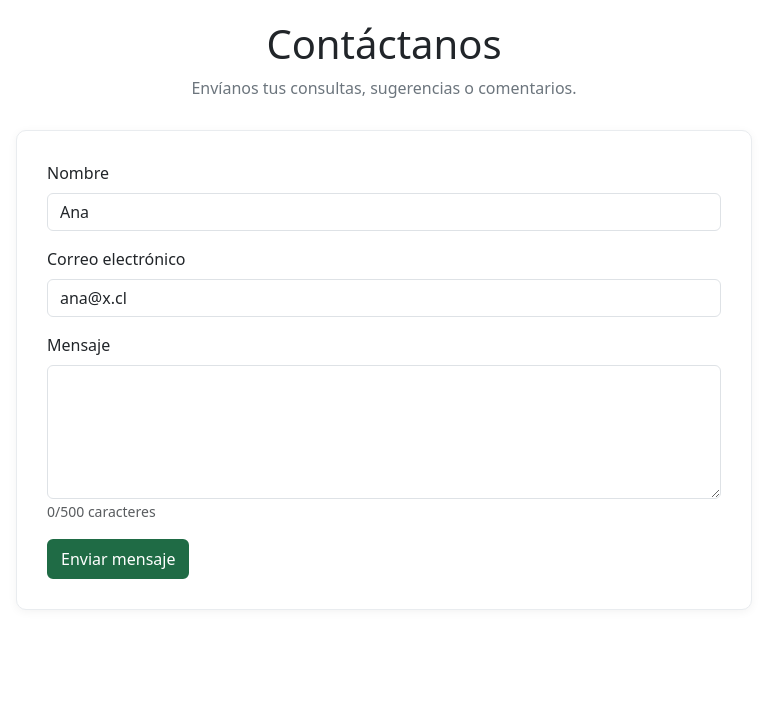
Test: ContactPage › muestra el formulario, precarga datos del usuario y envía el mensaje
Expected: the heading "Contáctanos" is shown, [266,16,502,71]
Expected: the field labelled "Nombre" holds "Ana", [47,193,721,231]
Type "Hola!" into the text box labelled "Mensaje". click: (384,432)
box: [47,365,721,499]
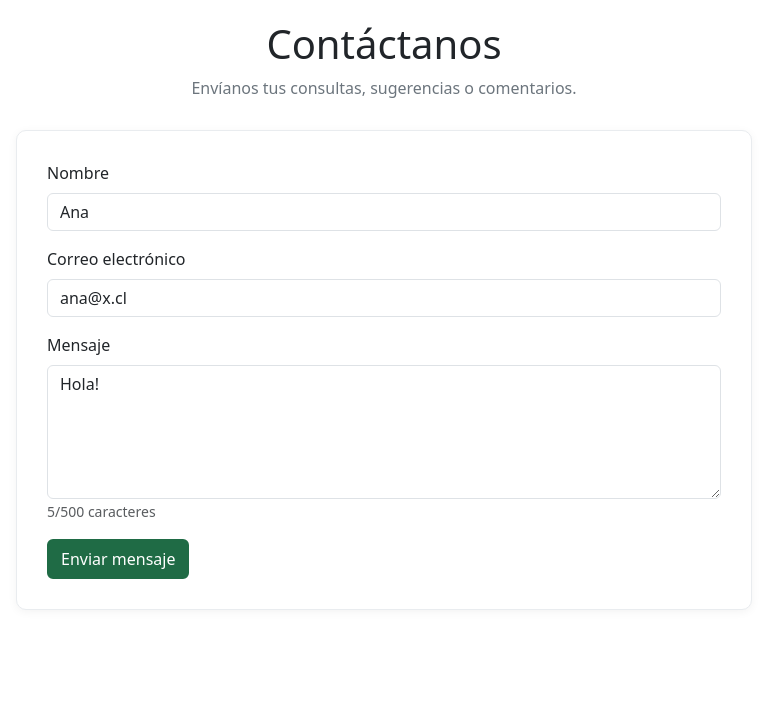
Click the button "Enviar mensaje". click: (118,559)
box: [47,539,190,579]
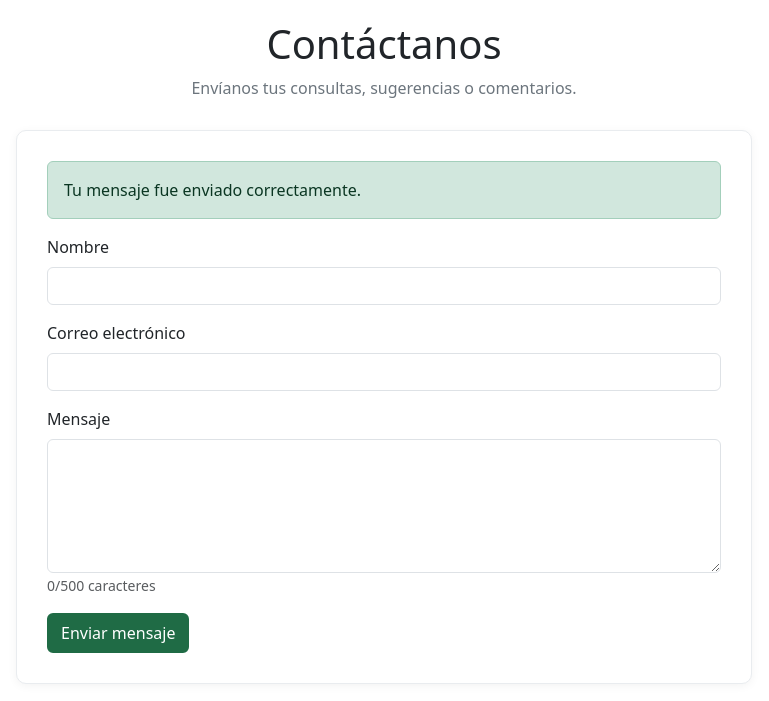
Expected: the text "Tu mensaje fue enviado correctamente." is shown, [47,161,721,219]
